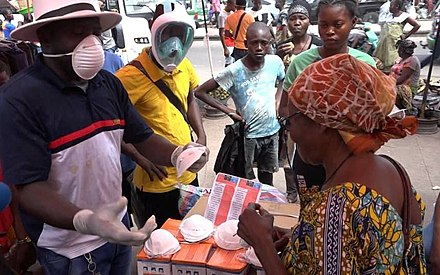with_mask: (48, 26, 109, 81)
without_mask: (273, 106, 334, 167), (316, 14, 356, 48), (242, 34, 274, 63), (287, 12, 309, 37)
